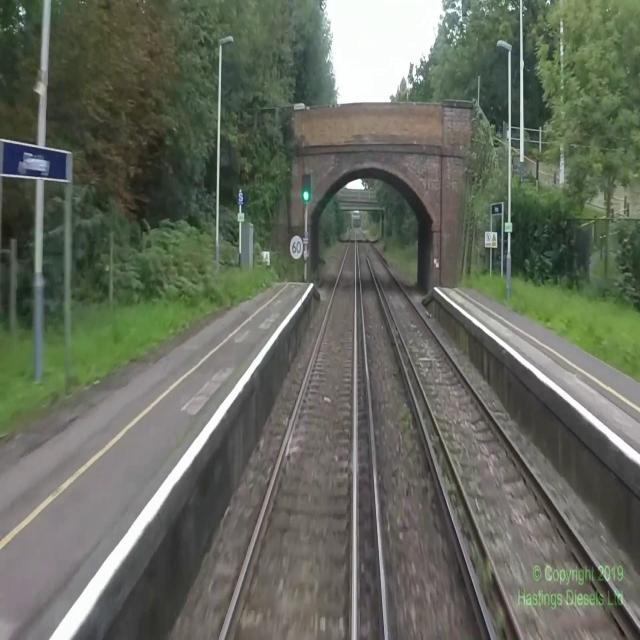rail-track: (360, 233, 640, 639), (223, 231, 355, 639)
